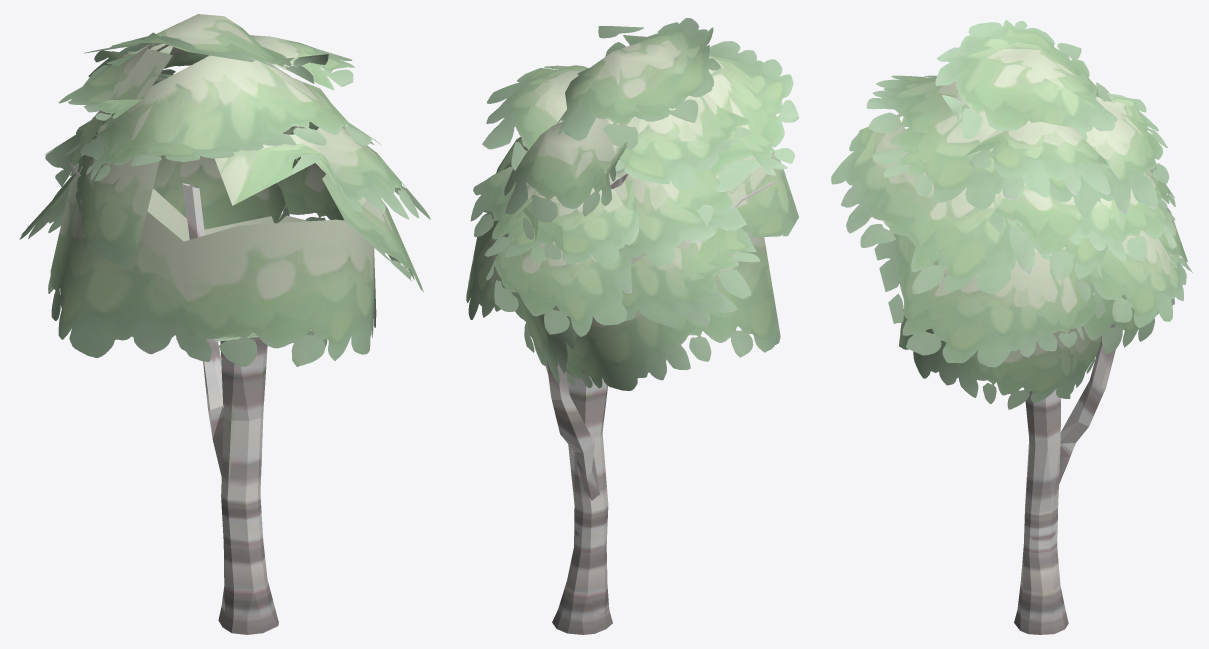
The model's file is TreeBirchMediumlOrchard_a.fbx.
3 views of the same model, side by side, from view 1: azimuth 30°, elevation 25°; view 2: azimuth 150°, elevation 25°; view 3: azimuth 270°, elevation 25° (orthographic). The views are drawn at different scales.
Parts seen in each view (by area): view 1: TreeBirchTrunkSmallA, TreeBirchBranch, TreeBirchStumpSmallA; view 2: TreeBirchTrunkSmallA, TreeBirchBranch, TreeBirchStumpSmallA; view 3: TreeBirchTrunkSmallA, TreeBirchBranch, TreeBirchStumpSmallA.
Part boxes in pixels (box(x1,y1,x2,y2)): TreeBirchTrunkSmallA: box(19, 14, 430, 618); TreeBirchBranch: box(182, 183, 223, 476); TreeBirchStumpSmallA: box(218, 607, 278, 634); TreeBirchTrunkSmallA: box(466, 18, 798, 619); TreeBirchBranch: box(546, 359, 599, 500); TreeBirchStumpSmallA: box(552, 610, 612, 634); TreeBirchTrunkSmallA: box(831, 20, 1192, 619); TreeBirchBranch: box(1059, 323, 1116, 483); TreeBirchStumpSmallA: box(1014, 610, 1068, 634).
Size of what is drawn, in the model's own units: 3.08 by 5.75 by 3.39.
